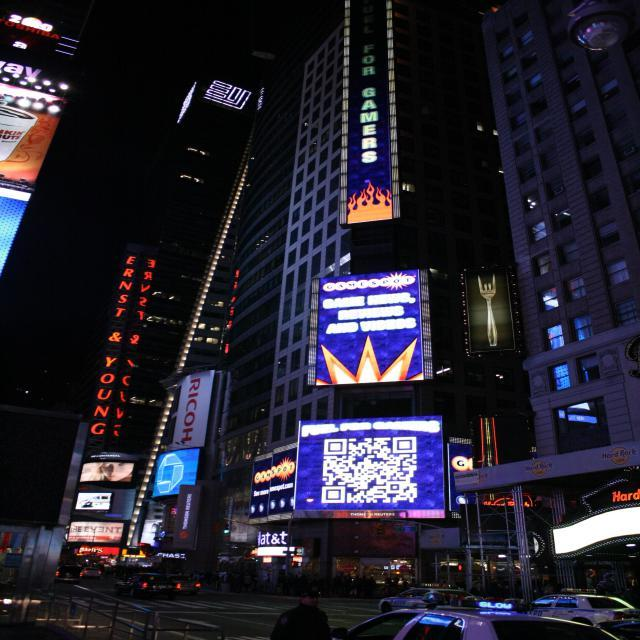qrcode: (323, 437, 419, 504)
